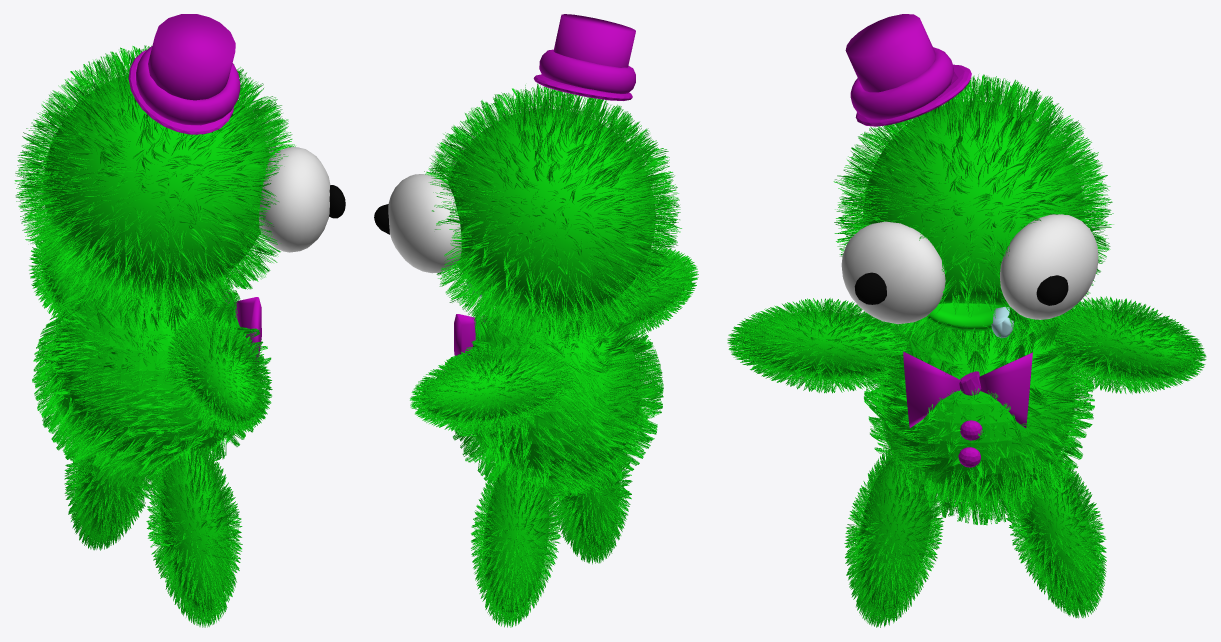
The model's file is student-11.glb.
3 views of the same model, side by side, from view 1: azimuth 30°, elevation 25°; view 2: azimuth 150°, elevation 25°; view 3: azimuth 270°, elevation 25° (orthographic). The views are drawn at different scales.
Parts seen in each view (by area): view 1: Character.001, Character.002, Character.010; view 2: Character.001, Character.002, Character.010; view 3: Character.001, Character.010, Character.002.
Boxes of the visible parts, <box> form: Character.001: <box>14,45,295,627</box>; Character.002: <box>128,14,261,363</box>; Character.010: <box>238,95,345,252</box>; Character.001: <box>410,83,698,627</box>; Character.002: <box>454,14,635,355</box>; Character.010: <box>374,137,481,296</box>; Character.001: <box>727,74,1206,627</box>; Character.010: <box>841,214,1098,338</box>; Character.002: <box>845,14,1032,467</box>.
Bounding box in the file's own units: 1.34 × 2.79 × 2.02.
